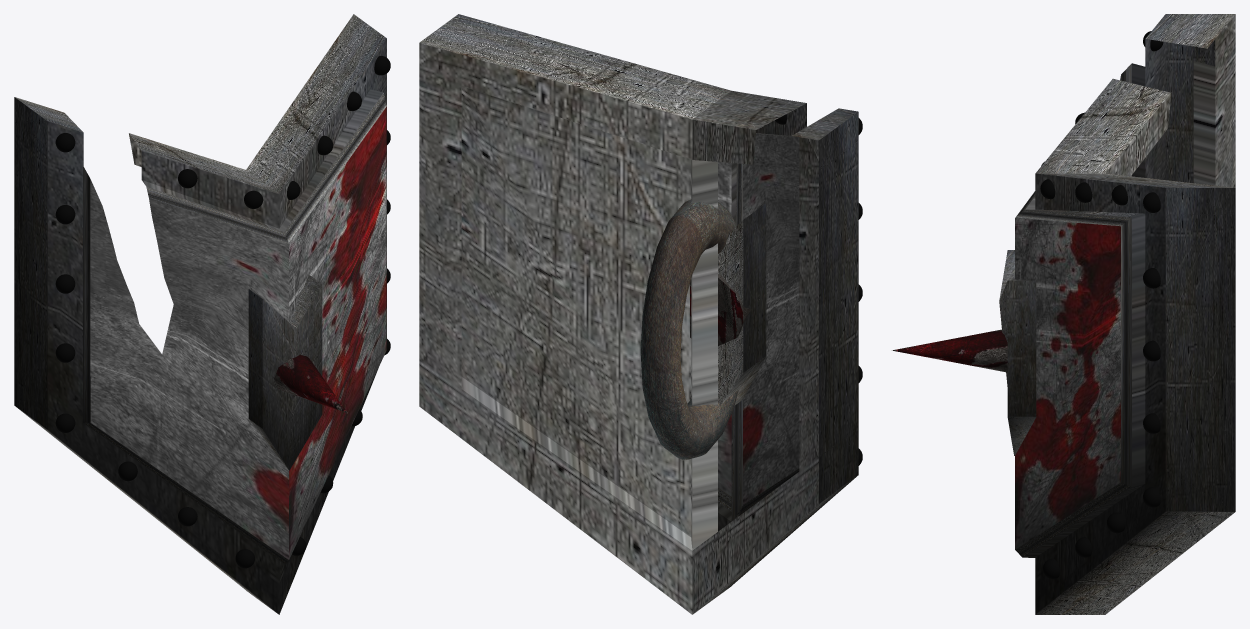
Rendered from Shield Broken.fbx.
The picture shows the model from 3 angles, left to right: view 1: azimuth 30°, elevation 25°; view 2: azimuth 150°, elevation 25°; view 3: azimuth 270°, elevation 25°; orthographic projection. The views are drawn at different scales.
Visible parts, largest first — view 1: polySurface163; view 2: polySurface163; view 3: polySurface163.
Boxes of the visible parts, x1,y1,x2,y2 form: polySurface163: (14, 14, 390, 614); polySurface163: (419, 14, 862, 614); polySurface163: (891, 14, 1235, 614).
Size of the model in its own units: 495 by 683 by 415.
